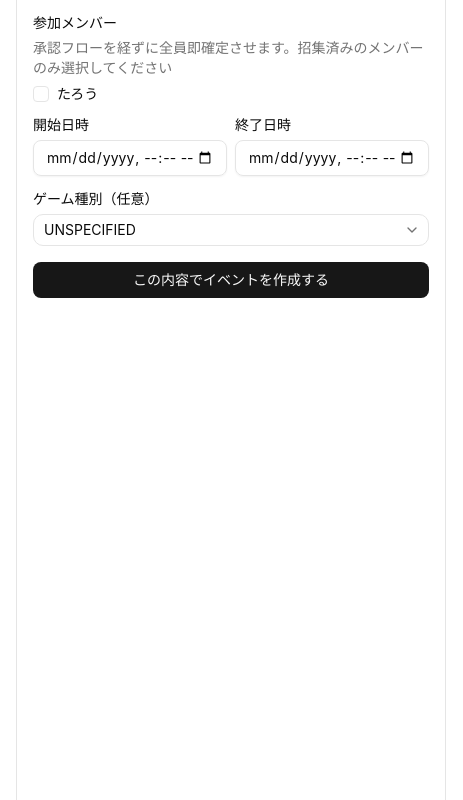
Test: ManualCandidateCreatePage › 終了日時が開始日時以前の場合は検証エラーを出す
Expected: the checkbox "たろう" is shown, left=57, top=87, right=98, bottom=101
Click the checkbox named "たろう" at (41,94), box left=33, top=86, right=49, bottom=102
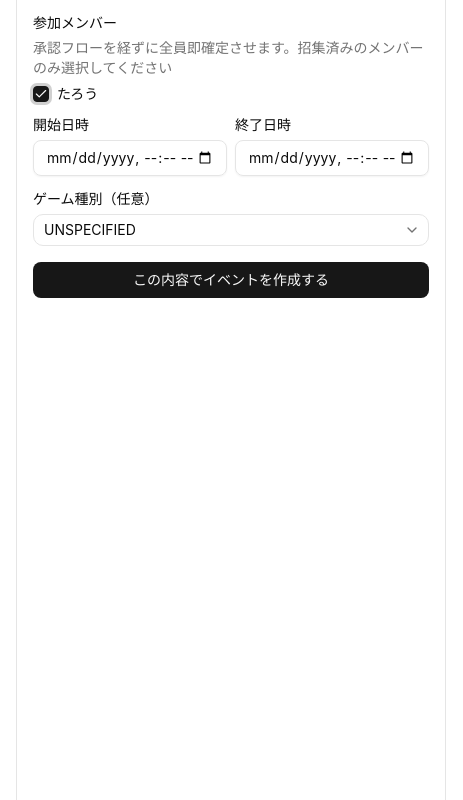
Type "2026-08-01T19:00" into the field named "startTime" at (130,158), box left=33, top=140, right=227, bottom=176
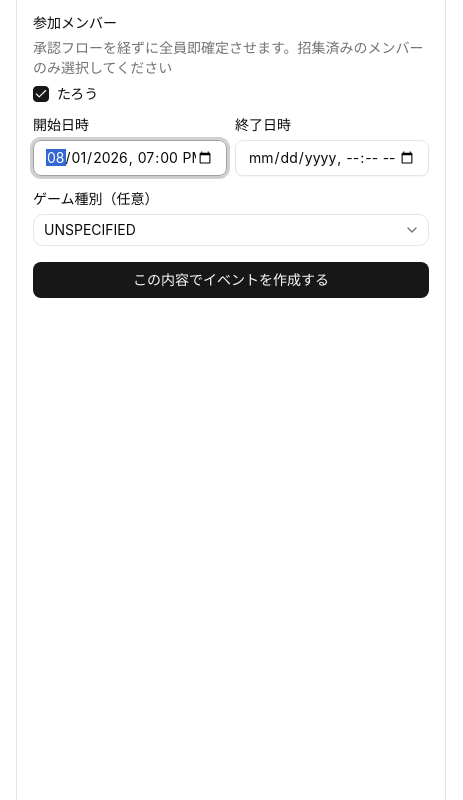
Type "2026-08-01T18:00" into the field named "endTime" at (332,158), box left=235, top=140, right=429, bottom=176
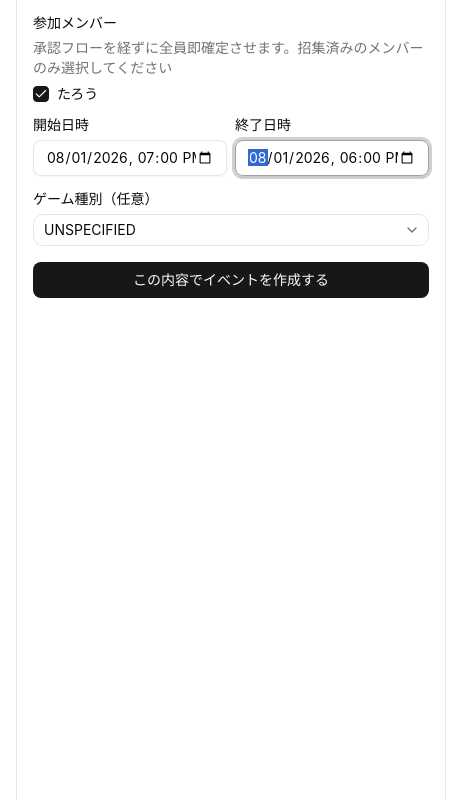
Click the button "この内容でイベントを作成する" at (231,280), box left=33, top=262, right=429, bottom=298
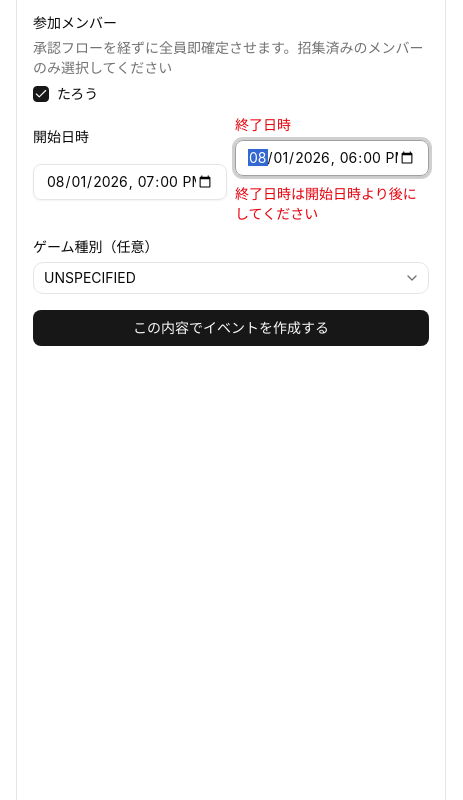
Expected: the text "終了日時は開始日時より後にしてください" is shown, left=235, top=184, right=429, bottom=224
